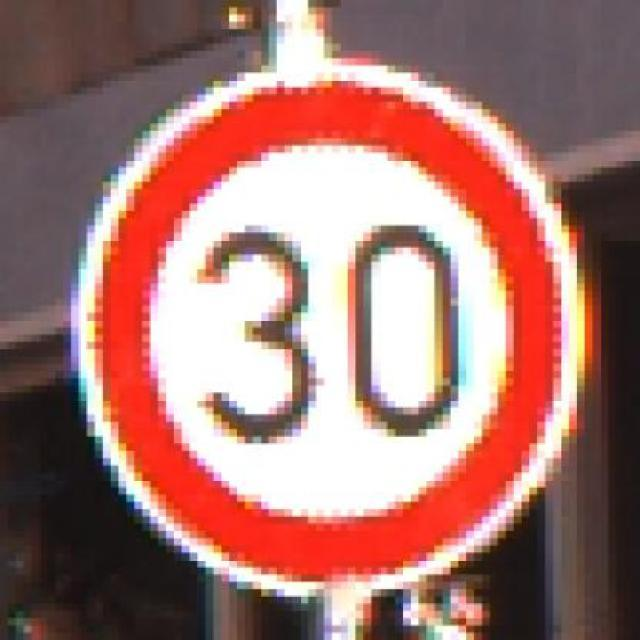speed limit 30: (70, 61, 591, 596)
